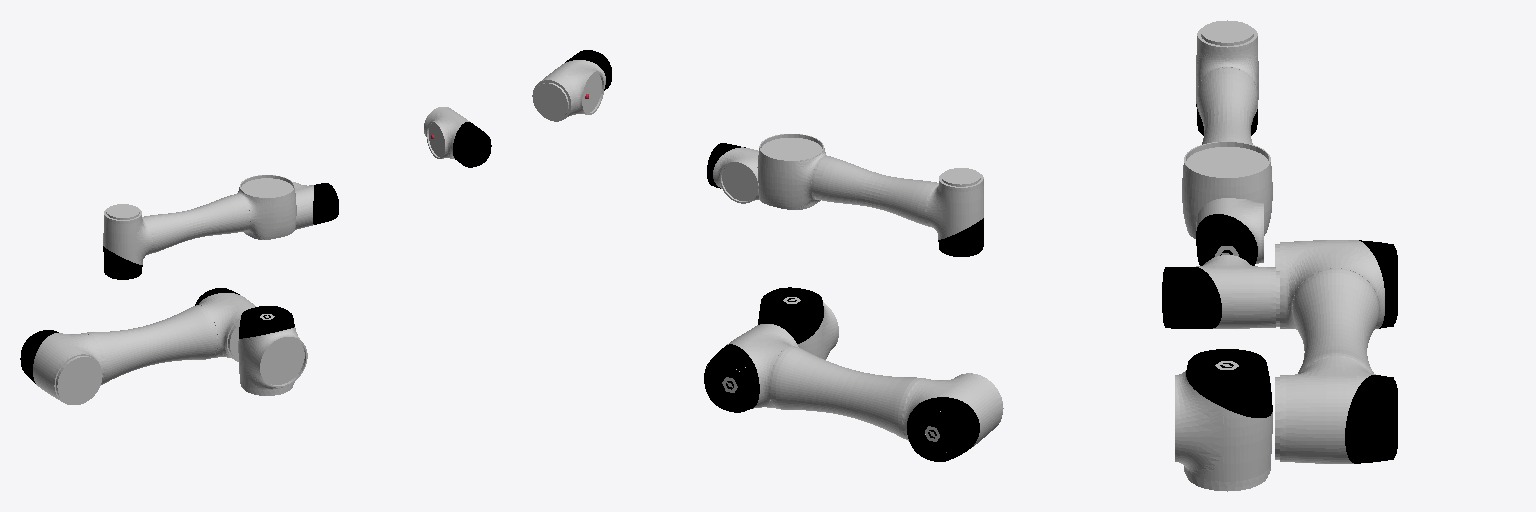
The robot description file, URDF, robot "panda":
<?xml version="1.0" encoding="utf-8"?>
<!-- =================================================================================== -->
<!-- |    This document was autogenerated by xacro from ./panda_hand.urdf.xacro    | -->
<!-- |    EDITING THIS FILE BY HAND IS NOT RECOMMENDED                                 | -->
<!-- =================================================================================== -->

<!-- Changes:
1. Dec 16 2022: 'package://panda_description/' was removed from all filenames
2. Dec 16 2022: Replaced '<origin rpy="0 0 0" xyz="0 -0.1 0"/>' with 
                  '<origin rpy="0 0 0" xyz="0 0 0.333"/>'. The xyz value was wrong for 
                  panda_hand.urdf in the robosuite package. See https://github.com/ARISE-Initiative/robosuite/issues/371 
3. Feb 2 2022: Added 'urdfs/panda/' to all mesh filenames

-->


<robot name="panda" xmlns:xacro="http://www.ros.org/wiki/xacro">

  <!-- TODO: add klampt tag, will need to fix the visualization issue as well -->
  <!-- <klampt use_vis_geom="1" flip_yz="0"></klampt> -->

  <link name="panda_link0">
    <inertial>
      <origin rpy="0 0 0" xyz="0.0 0.0 0.05"/>
      <mass value="4"/>
      <inertia ixx="0.4" ixy="0.0" ixz="0.0" iyy="0.4" iyz="0.0" izz="0.4"/>
    </inertial>
    <visual>
      <geometry>
        <mesh filename="urdfs/panda/meshes/visual/link0.dae"/>
      </geometry>
    </visual>
    <collision>
      <geometry>
        <mesh filename="urdfs/panda/meshes/collision/link0.stl"/>
      </geometry>
    </collision>
  </link>

  <link name="panda_link1">
    <inertial>
      <origin rpy="0 0 0" xyz="0.0 0.0 -0.07"/>
      <mass value="3"/>
      <inertia ixx="0.3" ixy="0.0" ixz="0.0" iyy="0.3" iyz="0.0" izz="0.3"/>
    </inertial>
    <visual>
      <geometry>
        <mesh filename="urdfs/panda/meshes/visual/link1.dae"/>
      </geometry>
    </visual>
    <collision>
      <geometry>
        <mesh filename="urdfs/panda/meshes/collision/link1.stl"/>
      </geometry>
    </collision>
  </link>
  <joint name="panda_joint1" type="revolute">
    <safety_controller k_position="100.0" k_velocity="40.0" soft_lower_limit="-2.8973" soft_upper_limit="2.8973"/>
    <origin rpy="0 0 0" xyz="0 0 0.333"/>
    <!-- <origin rpy="0 0 0" xyz="0 -0.1 0"/> <- this xyz value is wrong. see https://github.com/ARISE-Initiative/robosuite/issues/371-->

    <parent link="panda_link0"/>
    <child link="panda_link1"/>
    <axis xyz="0 0 1"/>
    <limit effort="87" lower="-2.8973" upper="2.8973" velocity="2.1750"/>
  </joint>
  <link name="panda_link2">
    <inertial>
      <origin rpy="0 0 0" xyz="0.0 -0.1 0.0"/>
      <mass value="3"/>
      <inertia ixx="0.3" ixy="0.0" ixz="0.0" iyy="0.3" iyz="0.0" izz="0.3"/>
    </inertial>
    <visual>
      <geometry>
        <mesh filename="urdfs/panda/meshes/visual/link2.dae"/>
      </geometry>
    </visual>
    <collision>
      <geometry>
        <mesh filename="urdfs/panda/meshes/collision/link2.stl"/>
      </geometry>
    </collision>
  </link>
  <joint name="panda_joint2" type="revolute">
    <safety_controller k_position="100.0" k_velocity="40.0" soft_lower_limit="-1.7628" soft_upper_limit="1.7628"/>
    <origin rpy="-1.57079632679 0 0" xyz="0 0 0"/>
    <parent link="panda_link1"/>
    <child link="panda_link2"/>
    <axis xyz="0 0 1"/>
    <limit effort="87" lower="-1.7628" upper="1.7628" velocity="2.1750"/>
  </joint>
  <link name="panda_link3">
    <inertial>
      <origin rpy="0 0 0" xyz="0.04 0 -0.05"/>
      <mass value="2"/>
      <inertia ixx="0.2" ixy="0.0" ixz="0.0" iyy="0.2" iyz="0.0" izz="0.2"/>
    </inertial>
    <visual>
      <geometry>
        <mesh filename="urdfs/panda/meshes/visual/link3.dae"/>
      </geometry>
    </visual>
    <collision>
      <geometry>
        <mesh filename="urdfs/panda/meshes/collision/link3.stl"/>
      </geometry>
    </collision>
  </link>
  <joint name="panda_joint3" type="revolute">
    <safety_controller k_position="100.0" k_velocity="40.0" soft_lower_limit="-2.8973" soft_upper_limit="2.8973"/>
    <origin rpy="1.57079632679 0 0" xyz="0 -0.316 0"/>
    <parent link="panda_link2"/>
    <child link="panda_link3"/>
    <axis xyz="0 0 1"/>
    <limit effort="87" lower="-2.8973" upper="2.8973" velocity="2.1750"/>
  </joint>
  <link name="panda_link4">
    <inertial>
      <origin rpy="0 0 0" xyz="-0.04 0.05 0"/>
      <mass value="2"/>
      <inertia ixx="0.2" ixy="0.0" ixz="0.0" iyy="0.2" iyz="0.0" izz="0.2"/>
    </inertial>
    <visual>
      <geometry>
        <mesh filename="urdfs/panda/meshes/visual/link4.dae"/>
      </geometry>
    </visual>
    <collision>
      <geometry>
        <mesh filename="urdfs/panda/meshes/collision/link4.stl"/>
      </geometry>
    </collision>
  </link>
  <joint name="panda_joint4" type="revolute">
    <safety_controller k_position="100.0" k_velocity="40.0" soft_lower_limit="-3.0718" soft_upper_limit="-0.0698"/>
    <origin rpy="1.57079632679 0 0" xyz="0.0825 0 0"/>
    <parent link="panda_link3"/>
    <child link="panda_link4"/>
    <axis xyz="0 0 1"/>
    <limit effort="87" lower="-3.0718" upper="-0.0698" velocity="2.1750"/>
  </joint>
  <link name="panda_link5">
    <inertial>
      <origin rpy="0 0 0" xyz="0 0 -0.15"/>
      <mass value="2"/>
      <inertia ixx="0.2" ixy="0.0" ixz="0.0" iyy="0.2" iyz="0.0" izz="0.2"/>
    </inertial>
    <visual>
      <geometry>
        <mesh filename="urdfs/panda/meshes/visual/link5.dae"/>
      </geometry>
    </visual>
    <collision>
      <geometry>
        <mesh filename="urdfs/panda/meshes/collision/link5.stl"/>
      </geometry>
    </collision>
  </link>
  <joint name="panda_joint5" type="revolute">
    <safety_controller k_position="100.0" k_velocity="40.0" soft_lower_limit="-2.8973" soft_upper_limit="2.8973"/>
    <origin rpy="-1.57079632679 0 0" xyz="-0.0825 0.384 0"/>
    <parent link="panda_link4"/>
    <child link="panda_link5"/>
    <axis xyz="0 0 1"/>
    <limit effort="12" lower="-2.8973" upper="2.8973" velocity="2.6100"/>
  </joint>
  <link name="panda_link6">
    <inertial>
      <origin rpy="0 0 0" xyz="0.06 0 0"/>
      <mass value="1.5"/>
      <inertia ixx="0.1" ixy="0.0" ixz="0.0" iyy="0.1" iyz="0.0" izz="0.1"/>
    </inertial>
    <visual>
      <geometry>
        <mesh filename="urdfs/panda/meshes/visual/link6.dae"/>
      </geometry>
    </visual>
    <collision>
      <geometry>
        <mesh filename="urdfs/panda/meshes/collision/link6.stl"/>
      </geometry>
    </collision>
  </link>
  <joint name="panda_joint6" type="revolute">
    <safety_controller k_position="100.0" k_velocity="40.0" soft_lower_limit="-0.0175" soft_upper_limit="3.7525"/>
    <origin rpy="1.57079632679 0 0" xyz="0 0 0"/>
    <parent link="panda_link5"/>
    <child link="panda_link6"/>
    <axis xyz="0 0 1"/>
    <limit effort="12" lower="-0.0175" upper="3.7525" velocity="2.6100"/>
  </joint>
  <link name="panda_link7">
    <inertial>
      <origin rpy="0 0 0" xyz="0 0 0.08"/>
      <mass value="0.5"/>
      <inertia ixx="0.05" ixy="0.0" ixz="0.0" iyy="0.05" iyz="0.0" izz="0.05"/>
    </inertial>
    <visual>
      <geometry>
        <mesh filename="urdfs/panda/meshes/visual/link7.dae"/>
      </geometry>
    </visual>
    <collision>
      <geometry>
        <mesh filename="urdfs/panda/meshes/collision/link7.stl"/>
      </geometry>
    </collision>
  </link>
  <joint name="panda_joint7" type="revolute">
    <safety_controller k_position="100.0" k_velocity="40.0" soft_lower_limit="-2.8973" soft_upper_limit="2.8973"/>
    <origin rpy="1.57079632679 0 0" xyz="0.088 0 0"/>
    <parent link="panda_link6"/>
    <child link="panda_link7"/>
    <axis xyz="0 0 1"/>
    <limit effort="12" lower="-2.8973" upper="2.8973" velocity="2.6100"/>
  </joint>
  <link name="panda_link8">
      <inertial>
        <origin rpy="0 0 0" xyz="0.0 0.0 0.0"/>
        <mass value="0.005"/>
        <inertia ixx="0.00003" ixy="0.0" ixz="0.0" iyy="0.00003" iyz="0.0" izz="0.00003"/>
      </inertial>
    </link>
    <joint name="panda_joint8" type="fixed">
      <origin rpy="0 0 0" xyz="0 0 0.107"/>
      <parent link="panda_link7"/>
      <child link="panda_link8"/>
      <axis xyz="0 0 0"/>
    </joint>
  <joint name="panda_hand_joint" type="fixed">
    <parent link="panda_link8"/>
    <child link="panda_hand"/>
    <origin rpy="0 0 -0.785398163397" xyz="0 0 0"/>
  </joint>
  <link name="panda_hand">
    <inertial>
      <origin rpy="0 0 0" xyz="0.0 0.0 0.0"/>
      <mass value="0.67893"/>
      <inertia ixx="0.01" ixy="0.0" ixz="0.0" iyy="0.01" iyz="0.0" izz="0.01"/>
    </inertial>
    <visual>
      <geometry>
        <mesh filename="urdfs/panda/meshes/visual/hand.dae"/>
      </geometry>
    </visual>
    <collision>
      <geometry>
        <mesh filename="urdfs/panda/meshes/collision/hand.stl"/>
      </geometry>
    </collision>
  </link>
  <link name="panda_leftfinger">
    <inertial>
      <origin rpy="0 0 0" xyz="0.0 0.0 0.0"/>
      <mass value="0.01053"/>
      <inertia ixx="0.001" ixy="0.0" ixz="0.0" iyy="0.001" iyz="0.0" izz="0.001"/>
    </inertial>
    <visual>
      <geometry>
        <mesh filename="urdfs/panda/meshes/visual/finger.dae"/>
      </geometry>
    </visual>
    <collision>
      <geometry>
        <mesh filename="urdfs/panda/meshes/collision/finger.stl"/>
      </geometry>
    </collision>
  </link>
  <link name="panda_rightfinger">
    <inertial>
      <origin rpy="0 0 0" xyz="0.0 0.0 0.0"/>
      <mass value="0.01053"/>
      <inertia ixx="0.001" ixy="0.0" ixz="0.0" iyy="0.001" iyz="0.0" izz="0.001"/>
    </inertial>
    <visual>
      <origin rpy="0 0 3.14159265359" xyz="0 0 0"/>
      <geometry>
        <mesh filename="urdfs/panda/meshes/visual/finger.dae"/>
      </geometry>
    </visual>
    <collision>
      <origin rpy="0 0 3.14159265359" xyz="0 0 0"/>
      <geometry>
        <mesh filename="urdfs/panda/meshes/collision/finger.stl"/>
      </geometry>
    </collision>
  </link>
  <joint name="panda_finger_joint1" type="prismatic">
    <parent link="panda_hand"/>
    <child link="panda_leftfinger"/>
    <origin rpy="0 0 0" xyz="0 0 0.0584"/>
    <axis xyz="0 1 0"/>
    <limit effort="20" lower="0.0" upper="0.04" velocity="0.2"/>
  </joint>
  <joint name="panda_finger_joint2" type="prismatic">
    <parent link="panda_hand"/>
    <child link="panda_rightfinger"/>
    <origin rpy="0 0 0" xyz="0 0 0.0584"/>
    <axis xyz="0 -1 0"/>
    <limit effort="20" lower="0.0" upper="0.04" velocity="0.2"/>
    <mimic joint="panda_finger_joint1"/>
  </joint>
</robot>

--- What the picture shows (computed from the rendered views, not written in the file) ---
Views: 3 orthographic renders of the robot side by side, from view 1: azimuth 30°, elevation 25°; view 2: azimuth 150°, elevation 25°; view 3: azimuth 270°, elevation 25°.
Robot: panda — 12 links, 11 joints (7 revolute, 2 prismatic, 2 fixed); root link panda_link0; default pose: joints at zero except 1 at the middle of their limits (panda_joint4 = -1.57).
Visible links, largest first — view 1: panda_link2, panda_link3, panda_link1, panda_link5, panda_link4; view 2: panda_link2, panda_link3, panda_link5, panda_link1, panda_link4; view 3: panda_link2, panda_link3, panda_link1, panda_link5, panda_link4.
Link boxes in pixels (<box>): panda_link2: <box>20,288,255,404</box>; panda_link3: <box>103,175,296,279</box>; panda_link1: <box>238,306,307,395</box>; panda_link5: <box>424,107,491,167</box>; panda_link4: <box>293,182,338,229</box>; panda_link2: <box>704,324,1003,461</box>; panda_link3: <box>757,134,983,256</box>; panda_link5: <box>532,50,611,121</box>; panda_link1: <box>758,287,838,359</box>; panda_link4: <box>707,143,758,203</box>; panda_link2: <box>1275,240,1397,463</box>; panda_link3: <box>1182,20,1272,238</box>; panda_link1: <box>1175,349,1272,491</box>; panda_link5: <box>1162,255,1279,328</box>; panda_link4: <box>1196,198,1263,265</box>.
Size in the robot's own frame: 0.9974 by 0.3185 by 0.5239 metres.
Meshes: 10 distinct files referenced, 6 mesh visuals loaded (6 Collada DAE); not drawn: 5 (reference not matched to a file when rendering).
